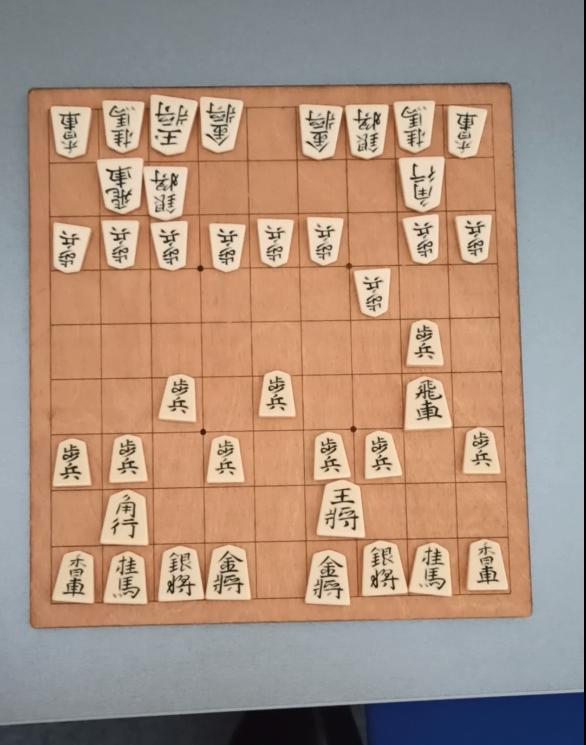board: (48, 104, 509, 604)
